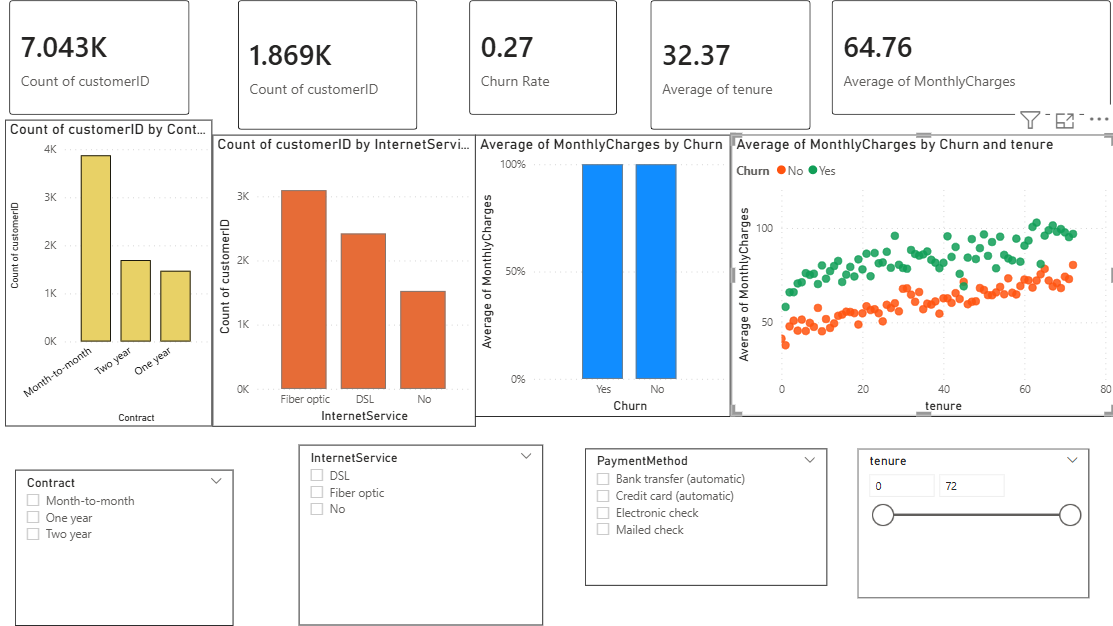

This screenshot's page, from the dashboard's own definition file:
{"tool":"powerbi","page":{"name":"Dashboard (Final)","canvas":[1280,720],"ordinal":0},"visuals":[{"type":"cardVisual","fields":{"Data":["Count(Telco-Customer-Churn.customerID)"]},"box":[11.4,0,216.7,141.1],"z":0},{"type":"cardVisual","fields":{"Data":["CountNonNull(Telco-Customer-Churn.customerID)"]},"box":[272.2,0,215.2,158.2],"z":1000},{"type":"cardVisual","fields":{"Data":["Telco-Customer-Churn.Churn Rate"]},"box":[537.4,0,179.6,141.1],"z":2000},{"type":"cardVisual","fields":{"Data":["Avg(Telco-Customer-Churn.tenure)"]},"box":[744.1,0,193.9,158.2],"z":3000},{"type":"cardVisual","fields":{"Data":["Avg(Telco-Customer-Churn.MonthlyCharges)"]},"box":[950.7,0,329.3,141.1],"z":4000},{"type":"clusteredColumnChart","fields":{"Category":["Telco-Customer-Churn.Contract"],"Y":["CountNonNull(Telco-Customer-Churn.customerID)"]},"box":[11.4,141.1,236.6,350.6],"z":5000},{"type":"clusteredColumnChart","fields":{"Category":["Telco-Customer-Churn.InternetService"],"Y":["CountNonNull(Telco-Customer-Churn.customerID)"]},"box":[248,158.2,300.8,333.5],"z":6000},{"type":"hundredPercentStackedColumnChart","fields":{"Category":["Telco-Customer-Churn.Churn"],"Y":["Avg(Telco-Customer-Churn.MonthlyCharges)"]},"box":[548.8,158.2,292.2,322.1],"z":7000},{"type":"scatterChart","fields":{"Series":["Telco-Customer-Churn.Churn"],"Y":["Avg(Telco-Customer-Churn.MonthlyCharges)"],"X":["Telco-Customer-Churn.tenure"]},"box":[841,158.2,439,322.1],"z":8000},{"type":"slicer","fields":{"Values":["Telco-Customer-Churn.Contract"]},"box":[22.8,541.6,249.4,178.2],"z":9000},{"type":"slicer","fields":{"Values":["Telco-Customer-Churn.InternetService"]},"box":[347.8,513.1,279.4,206.7],"z":10000},{"type":"slicer","fields":{"Values":["Telco-Customer-Churn.PaymentMethod"]},"box":[674.2,517.4,276.5,156.8],"z":11000},{"type":"slicer","fields":{"Values":["Telco-Customer-Churn.tenure"]},"box":[986.4,517.4,265.1,171],"z":12000}]}

Visuals, with their boxes in screenshot pixels (x1, y1, x2, y2), scaled from the page's 1280x720 canvas onto the 1113x626 screenshot:
cardVisual - Count(Telco-Customer-Churn.customerID): 10:0:198:123
cardVisual - CountNonNull(Telco-Customer-Churn.customerID): 237:0:424:138
cardVisual - Telco-Customer-Churn.Churn Rate: 467:0:623:123
cardVisual - Avg(Telco-Customer-Churn.tenure): 647:0:816:138
cardVisual - Avg(Telco-Customer-Churn.MonthlyCharges): 827:0:1112:123
clusteredColumnChart - Telco-Customer-Churn.Contract x CountNonNull(Telco-Customer-Churn.customerID): 10:123:216:428
clusteredColumnChart - Telco-Customer-Churn.InternetService x CountNonNull(Telco-Customer-Churn.customerID): 216:138:477:428
hundredPercentStackedColumnChart - Telco-Customer-Churn.Churn x Avg(Telco-Customer-Churn.MonthlyCharges): 477:138:731:418
scatterChart - Telco-Customer-Churn.Churn x Avg(Telco-Customer-Churn.MonthlyCharges): 731:138:1112:418
slicer - Telco-Customer-Churn.Contract: 20:471:237:625
slicer - Telco-Customer-Churn.InternetService: 302:446:545:625
slicer - Telco-Customer-Churn.PaymentMethod: 586:450:827:586
slicer - Telco-Customer-Churn.tenure: 858:450:1088:599
